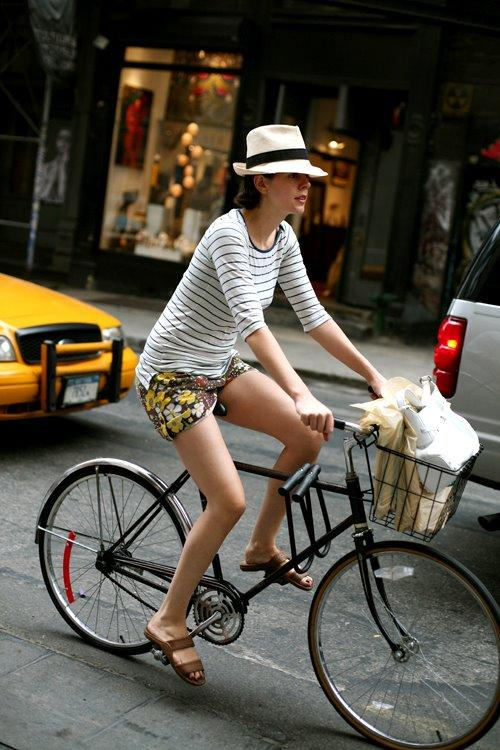person: (137, 122, 399, 692)
